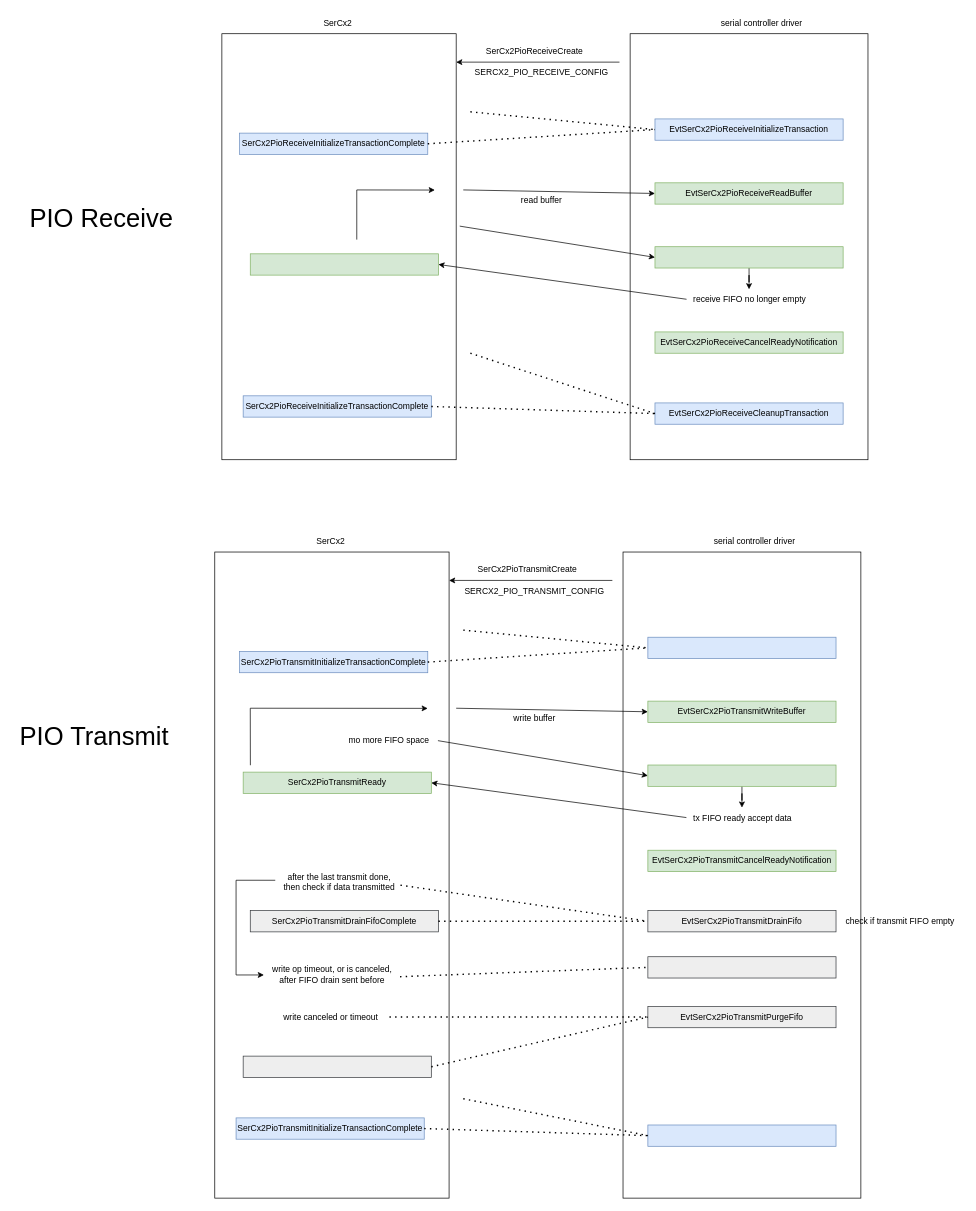
Some shapes in this 976 by 1211 pixel diagram are drawn without their labels. The shapes that lost their labels are listed below. From the top down, each one's centre as x and y in pixels, then its label:
At [344,264]: "SerCx2PioReceiveReady".
At [748,257]: "EvtSerCx2PioReceiveEnableReadyNotification".
At [741,648]: "EvtSerCx2PioTransmitInitializeTransaction".
At [741,775]: "EvtSerCx2PioTransmitEnableReadyNotification".
At [741,967]: "EvtSerCx2PioTransmitCancelDrainFifo".
At [336,1066]: "SerCx2PioTransmitPurgeFifoComplete".
At [741,1135]: "EvtSerCx2PioTransmitCleanupTransaction".
